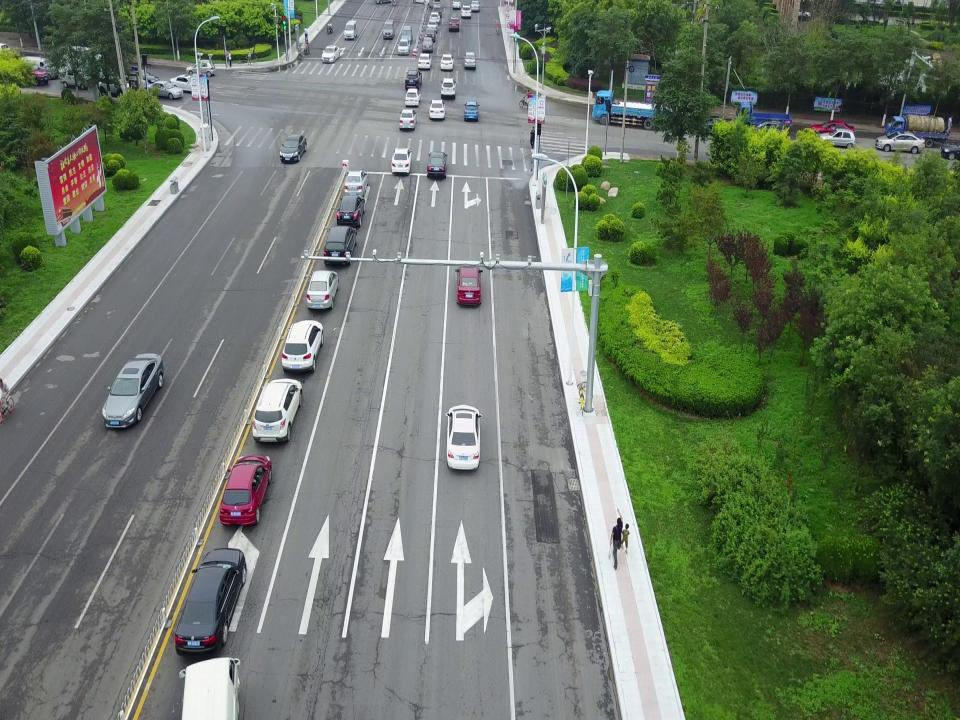car: (169, 544, 249, 661), (99, 349, 164, 433), (218, 454, 273, 528), (251, 376, 303, 444), (444, 403, 484, 471), (280, 318, 324, 374), (322, 220, 358, 267), (453, 262, 487, 311), (64, 43, 106, 80), (874, 128, 925, 157), (305, 269, 339, 311), (748, 119, 788, 149), (809, 119, 853, 144), (336, 190, 367, 225), (60, 62, 96, 92), (14, 57, 50, 87), (98, 72, 131, 102), (118, 68, 152, 97), (279, 132, 307, 166), (144, 76, 183, 100), (818, 128, 856, 151), (123, 68, 161, 87), (696, 111, 726, 135), (341, 171, 370, 195), (391, 146, 413, 176), (426, 150, 448, 179), (168, 73, 198, 94), (186, 59, 216, 77), (397, 107, 417, 132), (404, 66, 424, 90), (438, 76, 458, 99), (463, 100, 481, 123), (428, 98, 446, 121), (321, 45, 341, 64), (404, 87, 422, 107), (439, 52, 455, 71), (396, 37, 412, 56), (416, 53, 432, 71), (462, 50, 477, 68), (420, 36, 434, 52), (447, 16, 460, 32), (424, 27, 437, 42), (427, 18, 439, 33), (461, 4, 473, 18), (430, 4, 442, 18), (428, 11, 440, 24), (470, 0, 480, 11), (451, 0, 460, 11)
truck: (590, 88, 680, 133), (732, 101, 792, 140), (883, 114, 949, 147)
van: (20, 54, 58, 81), (342, 21, 358, 40), (382, 19, 395, 37), (400, 25, 412, 44), (429, 0, 441, 9)
